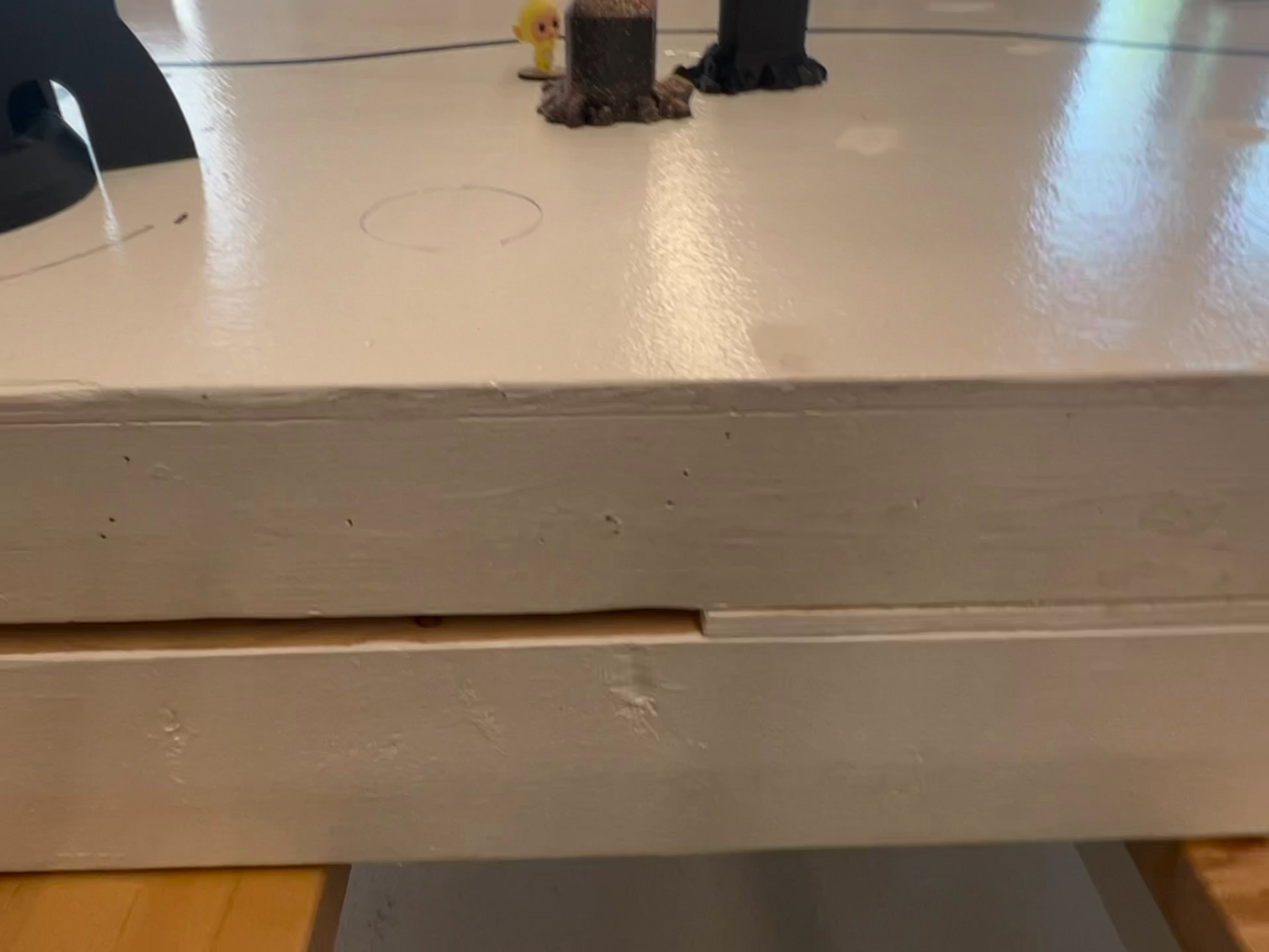teletubby: (512, 0, 562, 74)
